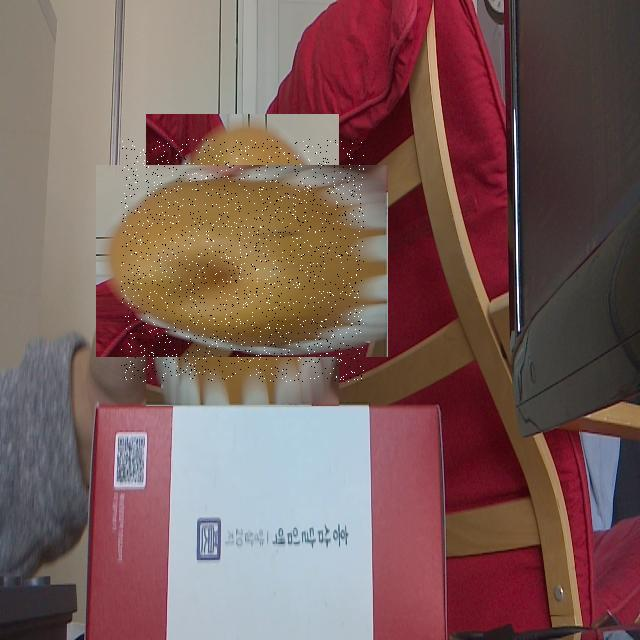pear: (121, 139, 364, 382)
